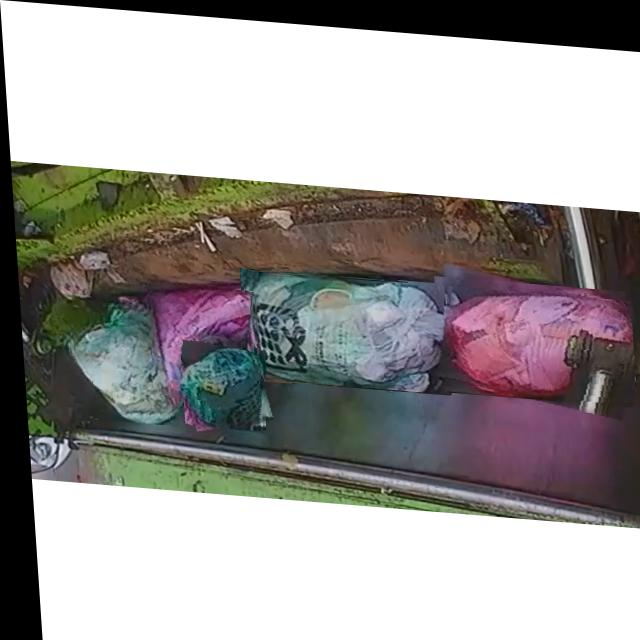general_trashbag: (242, 268, 442, 384), (67, 303, 173, 421), (182, 339, 255, 424)
other_trashbag: (440, 285, 628, 387), (145, 284, 250, 394)
